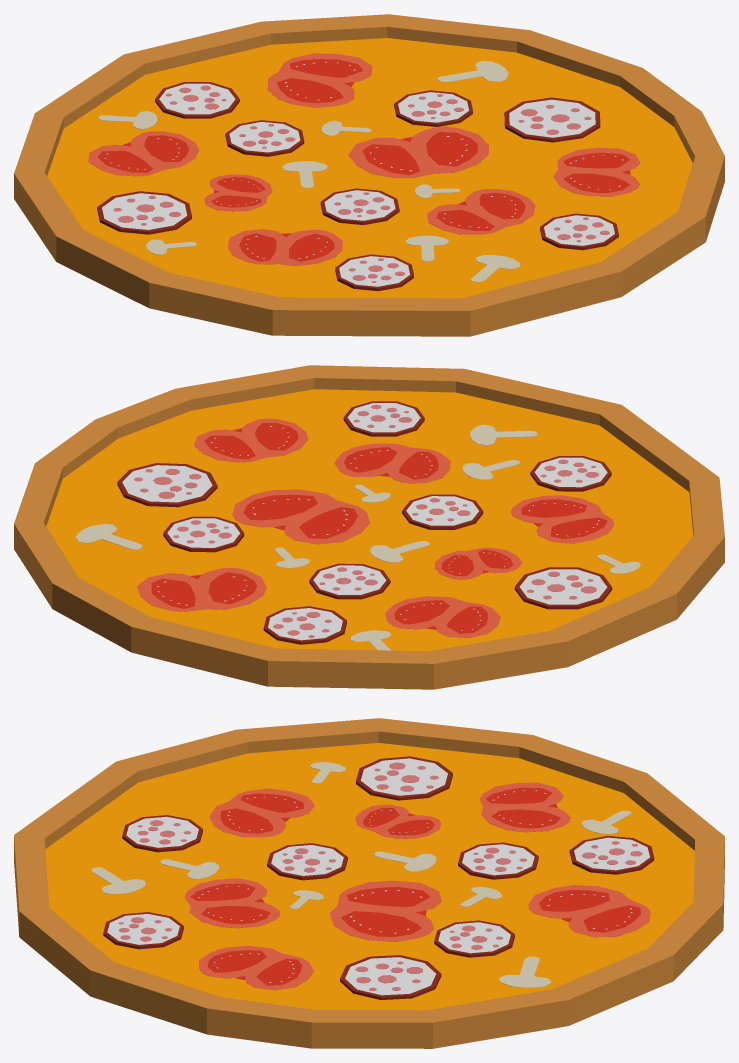
The model's file is Pizza.fbx.
3 renders of one model, top to bottom at view 1: azimuth 30°, elevation 25°; view 2: azimuth 150°, elevation 25°; view 3: azimuth 270°, elevation 25°, orthographic.
Visible parts, largest first — view 1: Dough, Tomatoe, Tomatoe.004, Tomatoe.003, Tomatoe.001, Tomatoe.002, Tomatoe.005, SausagePiece.007, SausagePiece.002, SausagePiece, SausagePiece.004, SausagePiece.005 (+9 smaller); view 2: Dough, Tomatoe, Tomatoe.004, Tomatoe.005, Tomatoe.002, Tomatoe.003, Tomatoe.001, SausagePiece.007, SausagePiece.002, SausagePiece, SausagePiece.001, SausagePiece.005 (+9 smaller); view 3: Dough, Tomatoe, Tomatoe.004, Tomatoe.003, Tomatoe.002, Tomatoe.001, Tomatoe.005, SausagePiece.007, SausagePiece.002, SausagePiece, SausagePiece.004, SausagePiece.001 (+9 smaller).
Part boxes in pixels (left/top/right/bottom): Dough: left=14, top=14, right=724, bottom=336; Tomatoe: left=348, top=126, right=488, bottom=178; Tomatoe.004: left=267, top=53, right=372, bottom=107; Tomatoe.003: left=227, top=229, right=342, bottom=266; Tomatoe.001: left=88, top=131, right=199, bottom=176; Tomatoe.002: left=553, top=147, right=640, bottom=196; Tomatoe.005: left=427, top=189, right=535, bottom=234; SausagePiece.007: left=504, top=97, right=600, bottom=142; SausagePiece.002: left=97, top=191, right=191, bottom=234; SausagePiece: left=155, top=82, right=239, bottom=118; SausagePiece.004: left=335, top=254, right=413, bottom=291; SausagePiece.005: left=225, top=120, right=304, bottom=156; Dough: left=14, top=365, right=724, bottom=689; Tomatoe: left=232, top=489, right=370, bottom=544; Tomatoe.004: left=137, top=568, right=266, bottom=611; Tomatoe.005: left=334, top=443, right=450, bottom=483; Tomatoe.002: left=194, top=418, right=308, bottom=462; Tomatoe.003: left=510, top=495, right=614, bottom=543; Tomatoe.001: left=385, top=596, right=500, bottom=637; SausagePiece.007: left=117, top=463, right=217, bottom=507; SausagePiece.002: left=514, top=567, right=612, bottom=609; SausagePiece: left=263, top=606, right=346, bottom=644; SausagePiece.001: left=163, top=516, right=244, bottom=552; SausagePiece.005: left=309, top=563, right=390, bottom=599; Dough: left=14, top=718, right=724, bottom=1048; Tomatoe: left=329, top=880, right=441, bottom=941; Tomatoe.004: left=528, top=885, right=650, bottom=937; Tomatoe.003: left=209, top=788, right=314, bottom=837; Tomatoe.002: left=199, top=945, right=313, bottom=990; Tomatoe.001: left=479, top=782, right=570, bottom=832; Tomatoe.005: left=184, top=878, right=279, bottom=928; SausagePiece.007: left=340, top=955, right=441, bottom=999; SausagePiece.002: left=356, top=756, right=452, bottom=800; SausagePiece: left=569, top=836, right=654, bottom=874; SausagePiece.004: left=122, top=815, right=202, bottom=852; SausagePiece.001: left=434, top=920, right=514, bottom=957.
Size of the model in its own units: 200 by 8.14 by 197.
